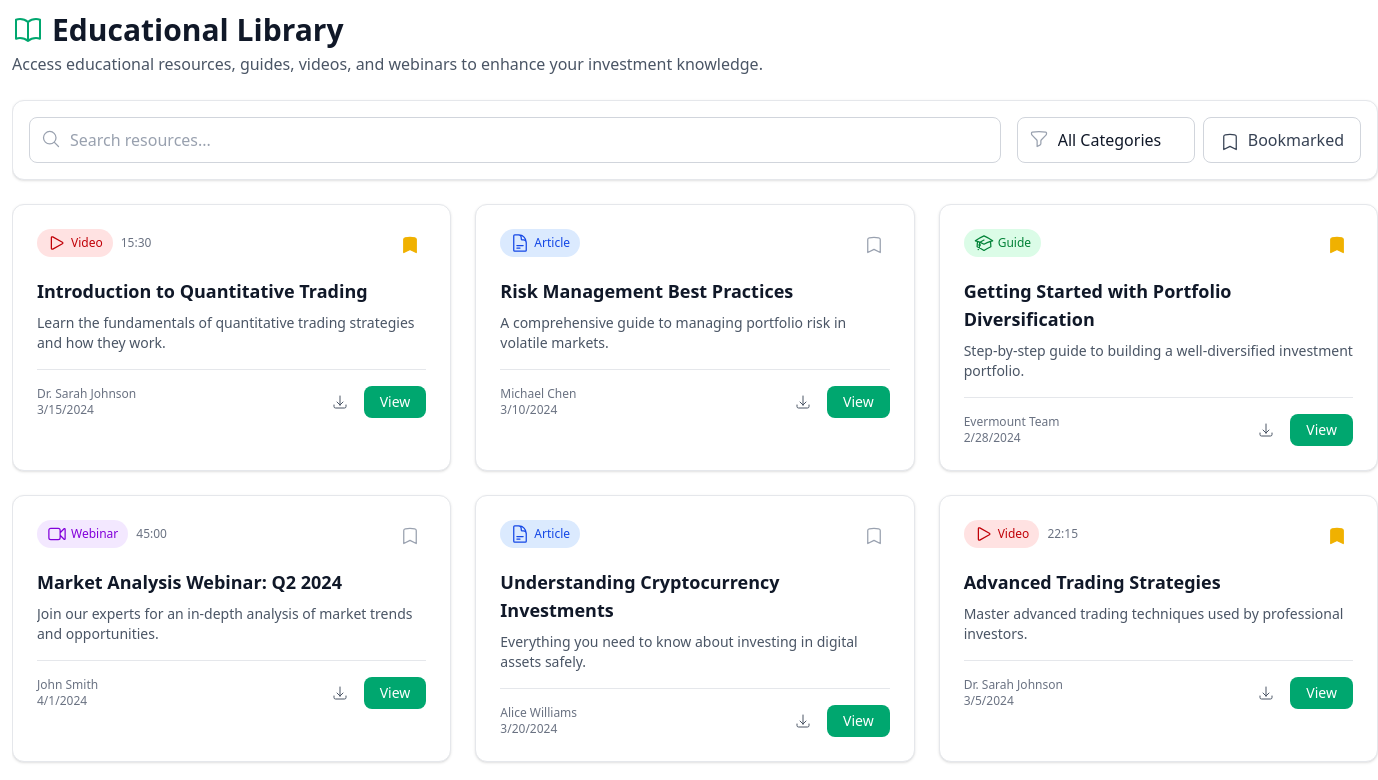
LibraryPage › filters to bookmarked resources only
Click the button "Bookmarked". click: (1282, 140)
box: [1203,117,1361,163]
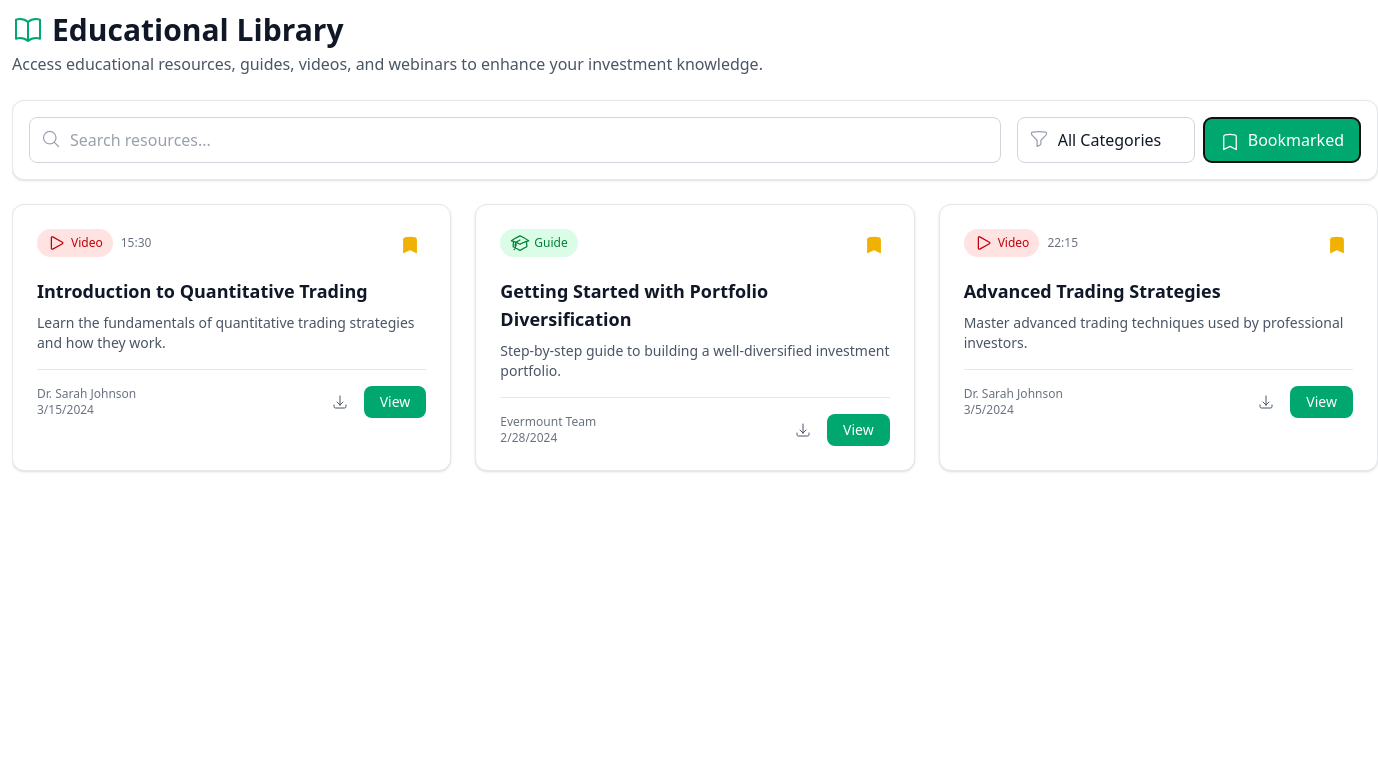
Check: the heading "Introduction to Quantitative Trading" is shown, box [37,279,368,303]
Check: the heading "Risk Management Best Practices" is gone
